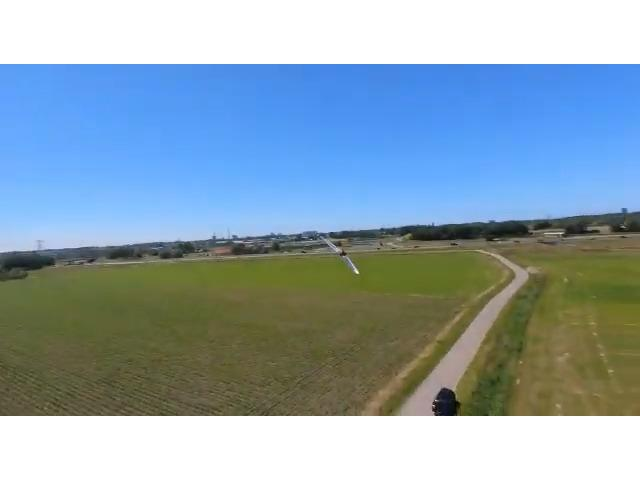Anti-Drone: (306, 223, 370, 292)
